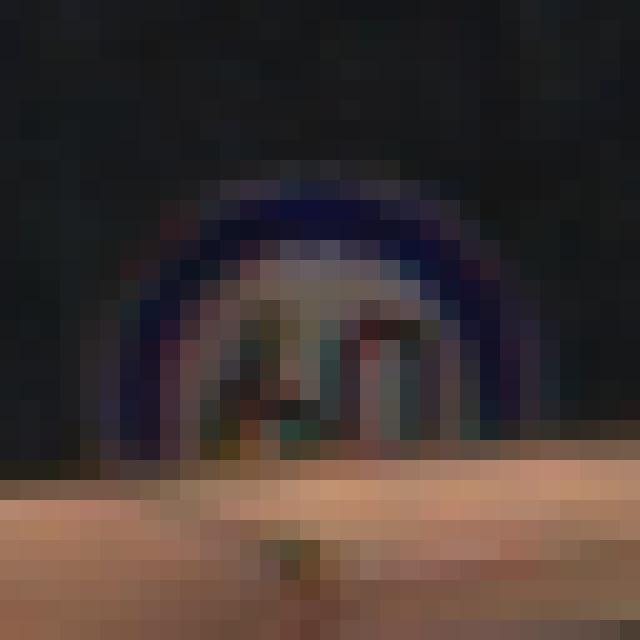SPEED-LIMIT-60: (91, 154, 548, 604)
